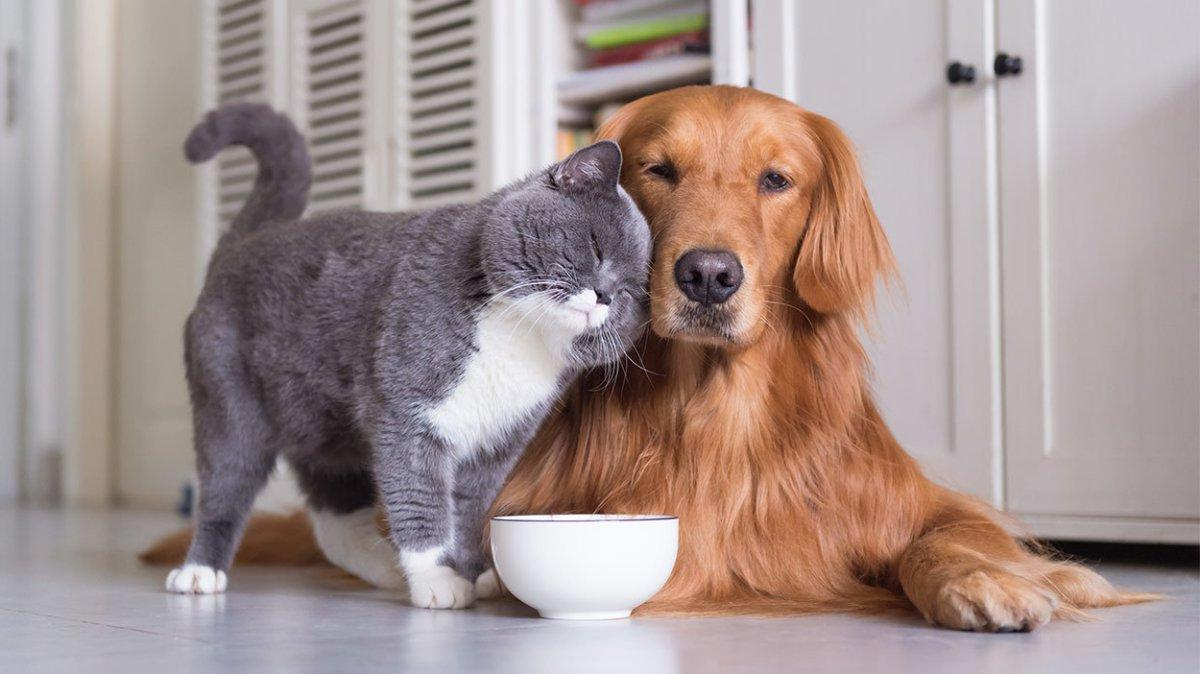animals: (512, 56, 1072, 635), (39, 101, 633, 604)
